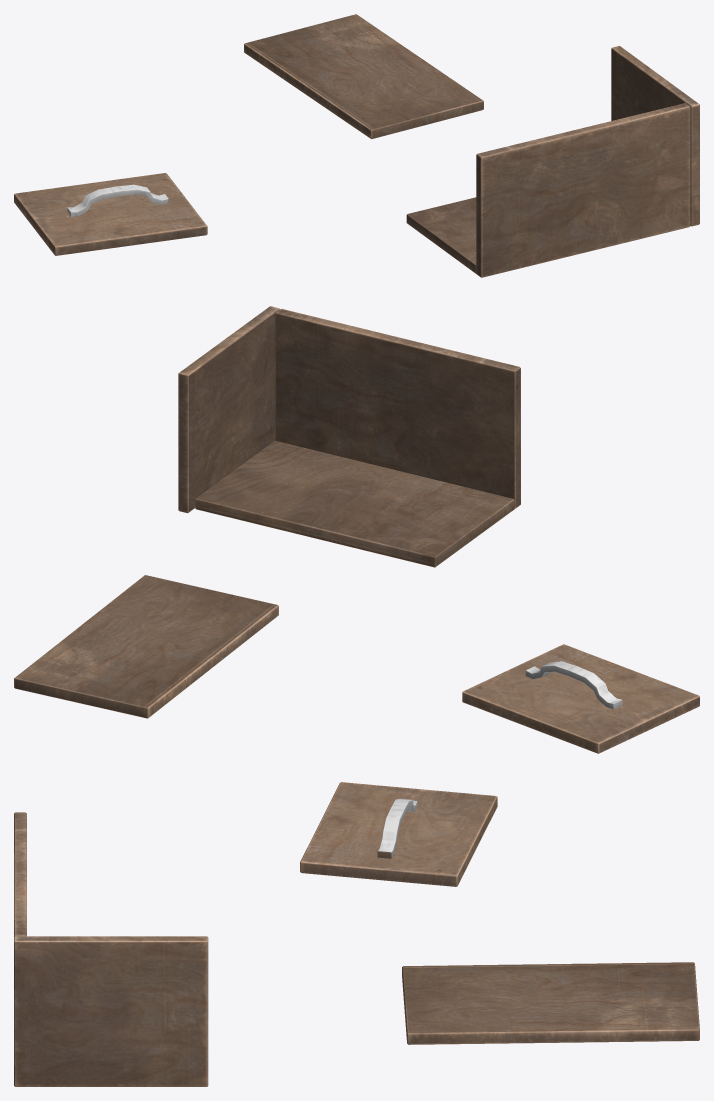
File: SM_Broken_Drawer.fbx
The picture shows the model from 3 angles, top to bottom: view 1: azimuth 30°, elevation 25°; view 2: azimuth 150°, elevation 25°; view 3: azimuth 270°, elevation 25°; orthographic projection. The views are drawn at different scales.
Visible parts, largest first — view 1: SM_Broken_Drawer_LOD0; view 2: SM_Broken_Drawer_LOD0; view 3: SM_Broken_Drawer_LOD0.
Part boxes in pixels (left/top/right/bottom): SM_Broken_Drawer_LOD0: left=14, top=14, right=699, bottom=277; SM_Broken_Drawer_LOD0: left=14, top=306, right=699, bottom=753; SM_Broken_Drawer_LOD0: left=14, top=782, right=699, bottom=1086.
Bounding box in the file's own units: 86.68 × 83.44 × 20.55.
1 material, 1 textured.
